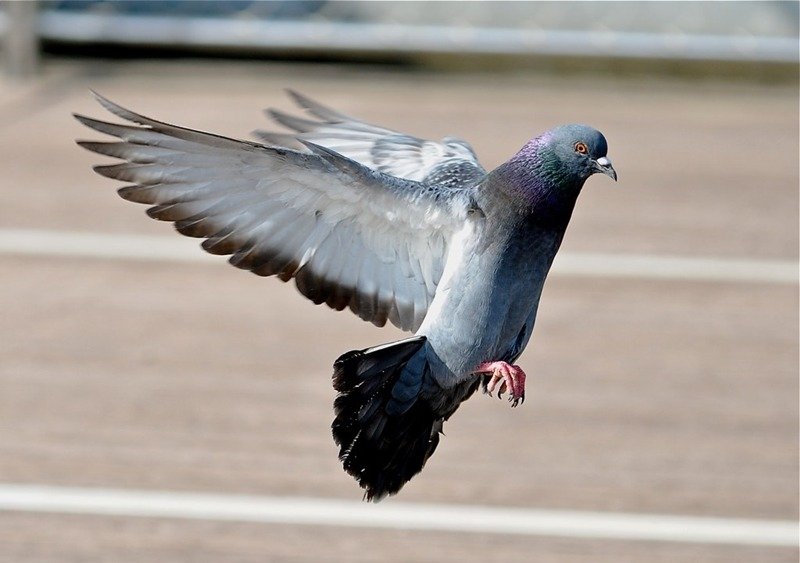pheasant: (89, 86, 627, 511)
